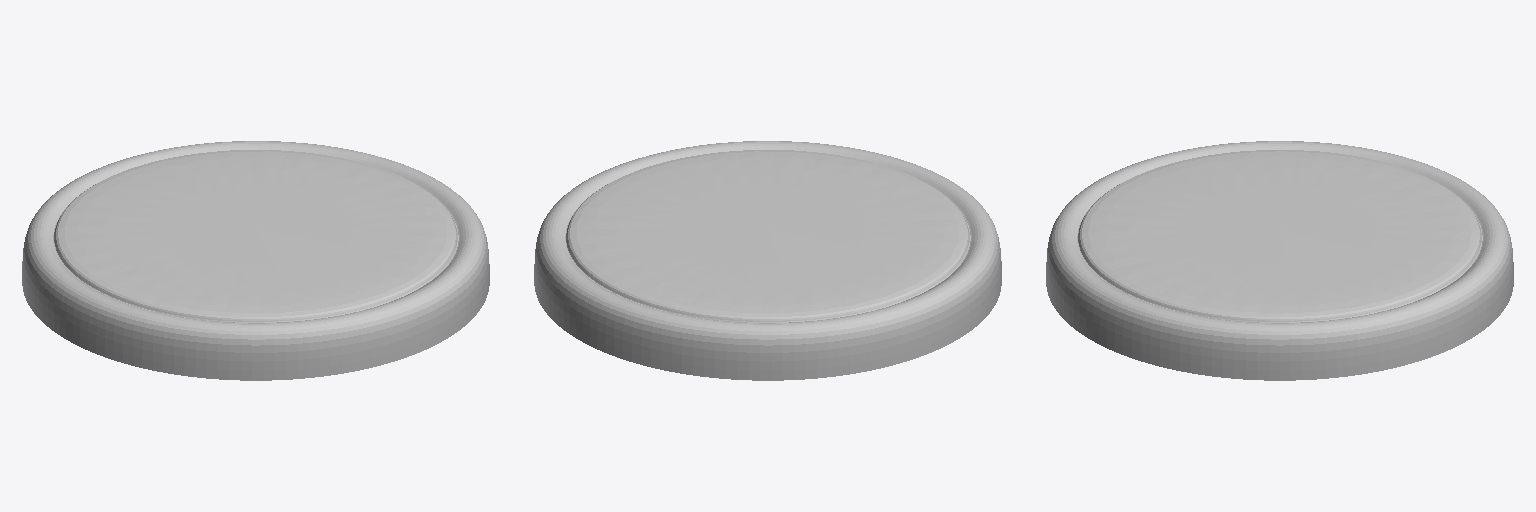
Rendered from Island_1.obj.
3 views of the same model, side by side, from view 1: azimuth 30°, elevation 25°; view 2: azimuth 150°, elevation 25°; view 3: azimuth 270°, elevation 25° (orthographic).
Visible parts, largest first — view 1: Island_1; view 2: Island_1; view 3: Island_1.
Part boxes in pixels (x1,y1,x2,y2): Island_1: (22, 141, 489, 380); Island_1: (534, 141, 1001, 380); Island_1: (1046, 141, 1513, 380).
Size of the model in its own units: 34.84 by 4.27 by 34.84.